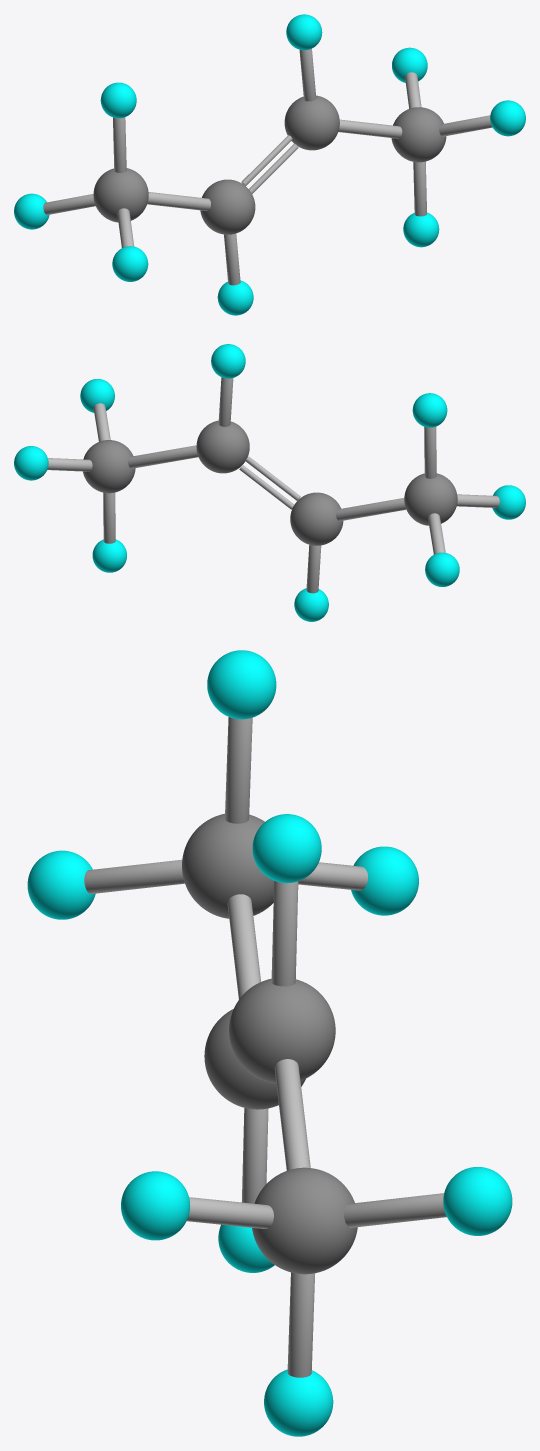
File: tert2-butene.glb
3 renders of one model, top to bottom at view 1: azimuth 30°, elevation 25°; view 2: azimuth 150°, elevation 25°; view 3: azimuth 270°, elevation 25°, orthographic. The views are drawn at different scales.
Visible parts, largest first — view 1: CMAtom_1, CMAtom_5, CMAtom_0, CMAtom_7, CMAtom_4, CMAtom_9, CMAtom_11, CMAtom_8, CMAtom_2, CMAtom_6, CMAtom_10, CMAtom_3 (+12 smaller); view 2: CMAtom_1, CMAtom_5, CMAtom_0, CMAtom_7, CMAtom_9, CMAtom_10, CMAtom_3, CMAtom_4, CMAtom_2, CMAtom_6, CMBond_1_Segment_0, CMBond_8_Segment_0 (+12 smaller); view 3: CMAtom_1, CMAtom_0, CMAtom_7, CMAtom_9, CMAtom_3, CMAtom_4, CMAtom_11, CMAtom_2, CMAtom_8, CMAtom_10, CMAtom_5, CMBond_1_Segment_0 (+10 smaller).
Part boxes in pixels (left/top/right/bottom): CMAtom_1: left=284, top=95, right=339, bottom=150; CMAtom_5: left=200, top=179, right=255, bottom=234; CMAtom_0: left=391, top=107, right=446, bottom=162; CMAtom_7: left=93, top=168, right=148, bottom=222; CMAtom_4: left=286, top=14, right=322, bottom=50; CMAtom_9: left=100, top=82, right=136, bottom=118; CMAtom_11: left=490, top=100, right=525, bottom=136; CMAtom_8: left=112, top=246, right=148, bottom=281; CMAtom_2: left=403, top=212, right=439, bottom=247; CMAtom_6: left=217, top=280, right=253, bottom=315; CMAtom_10: left=14, top=193, right=49, bottom=229; CMAtom_3: left=392, top=47, right=427, bottom=82; CMAtom_1: left=196, top=420, right=249, bottom=473; CMAtom_5: left=290, top=492, right=343, bottom=545; CMAtom_0: left=83, top=440, right=135, bottom=493; CMAtom_7: left=404, top=473, right=457, bottom=525; CMAtom_9: left=412, top=393, right=447, bottom=427; CMAtom_10: left=425, top=552, right=459, bottom=586; CMAtom_3: left=14, top=446, right=48, bottom=480; CMAtom_4: left=211, top=344, right=245, bottom=378; CMAtom_2: left=92, top=539, right=126, bottom=572; CMAtom_6: left=294, top=588, right=328, bottom=621; CMBond_1_Segment_0: left=128, top=445, right=198, bottom=468; CMBond_8_Segment_0: left=335, top=498, right=406, bottom=521; CMAtom_1: left=229, top=978, right=335, bottom=1083; CMAtom_0: left=252, top=1167, right=357, bottom=1274; CMAtom_7: left=182, top=813, right=273, bottom=918; CMAtom_9: left=207, top=650, right=276, bottom=719; CMAtom_3: left=443, top=1167, right=512, bottom=1235; CMAtom_4: left=252, top=814, right=321, bottom=883; CMAtom_11: left=121, top=1171, right=189, bottom=1240; CMAtom_2: left=264, top=1369, right=333, bottom=1436; CMAtom_8: left=27, top=850, right=95, bottom=919; CMAtom_10: left=351, top=846, right=418, bottom=915; CMAtom_5: left=204, top=1009, right=305, bottom=1109; CMBond_1_Segment_0: left=274, top=1059, right=310, bottom=1170.
Bounding box in the file's own units: 5.76 × 3.35 × 2.8.
